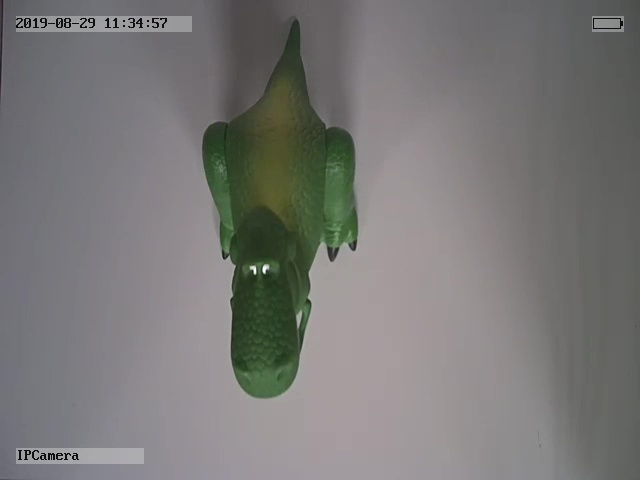rex: (201, 19, 359, 402)
